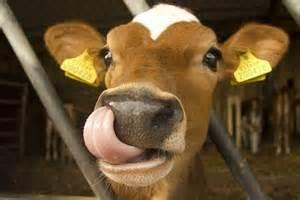cow: (43, 0, 290, 199)
